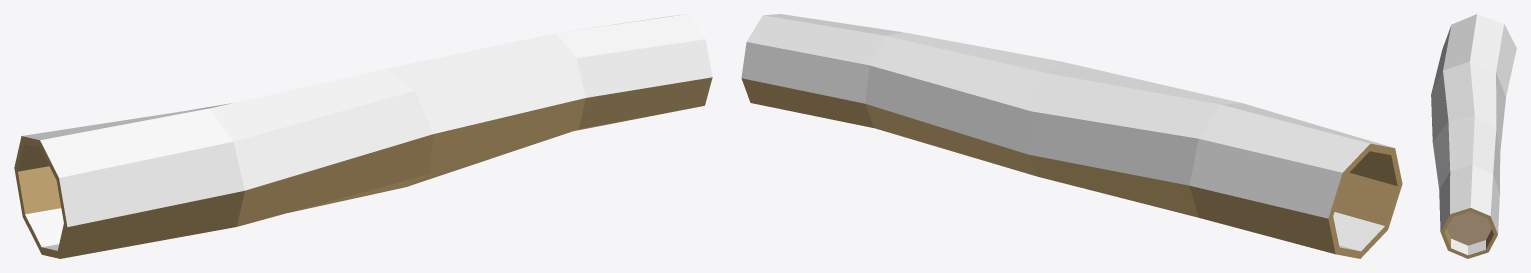
Rendered from Simple_Log_Snow_05_LOD.fbx.
3 views of the same model, side by side, from view 1: azimuth 30°, elevation 25°; view 2: azimuth 150°, elevation 25°; view 3: azimuth 270°, elevation 25° (orthographic). The views are drawn at different scales.
Visible parts, largest first — view 1: Simple_Log_Snow_05_LOD0; view 2: Simple_Log_Snow_05_LOD0; view 3: Simple_Log_Snow_05_LOD0.
Boxes of the visible parts, <box> form: Simple_Log_Snow_05_LOD0: <box>14,14,712,258</box>; Simple_Log_Snow_05_LOD0: <box>741,14,1402,258</box>; Simple_Log_Snow_05_LOD0: <box>1431,14,1516,258</box>.
Size of what is drawn, in the model's own units: 222 by 40.31 by 44.73.
